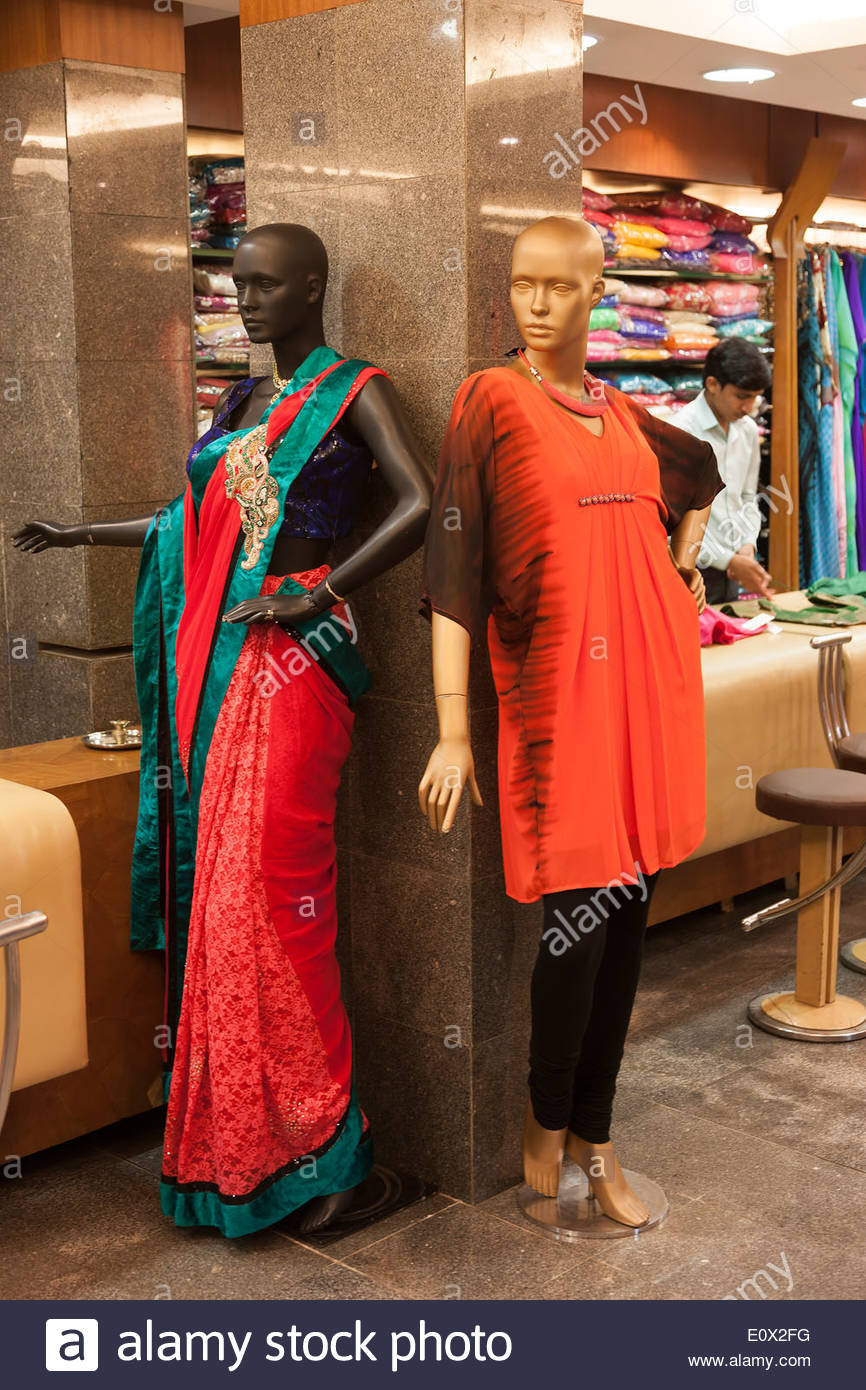person: (659, 335, 781, 605)
person-like: (9, 216, 438, 1260), (414, 205, 731, 1235)
